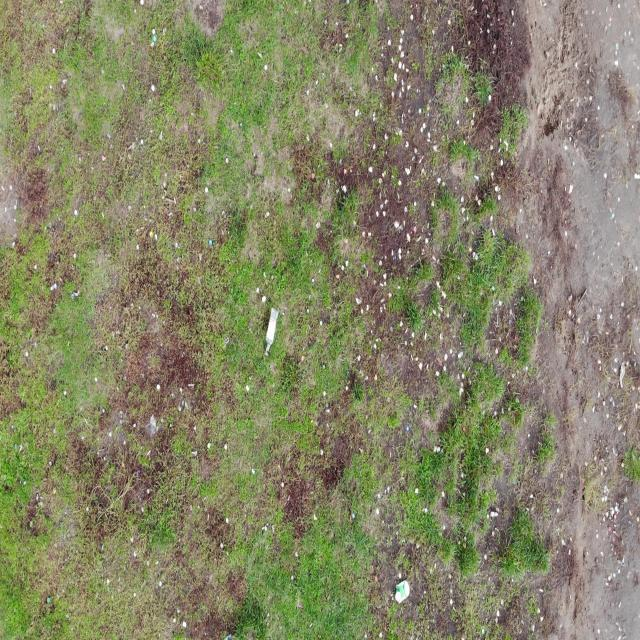rubbish: (265, 305, 280, 356), (394, 579, 411, 603)
